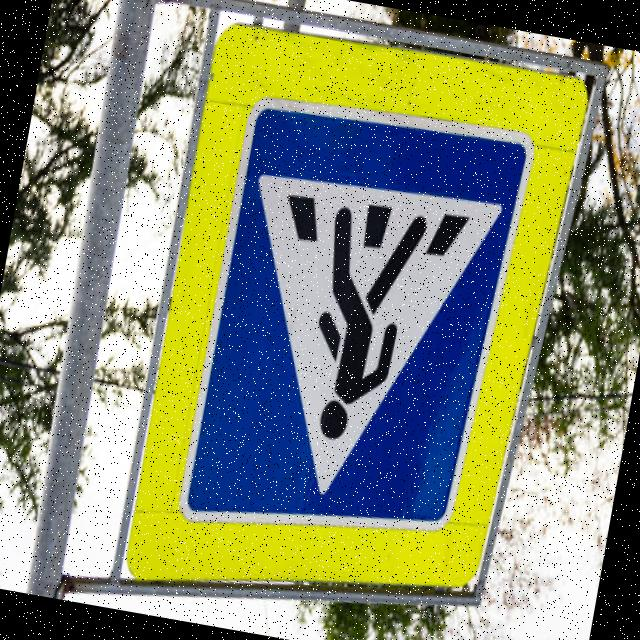crosswalk: (170, 82, 537, 577)
